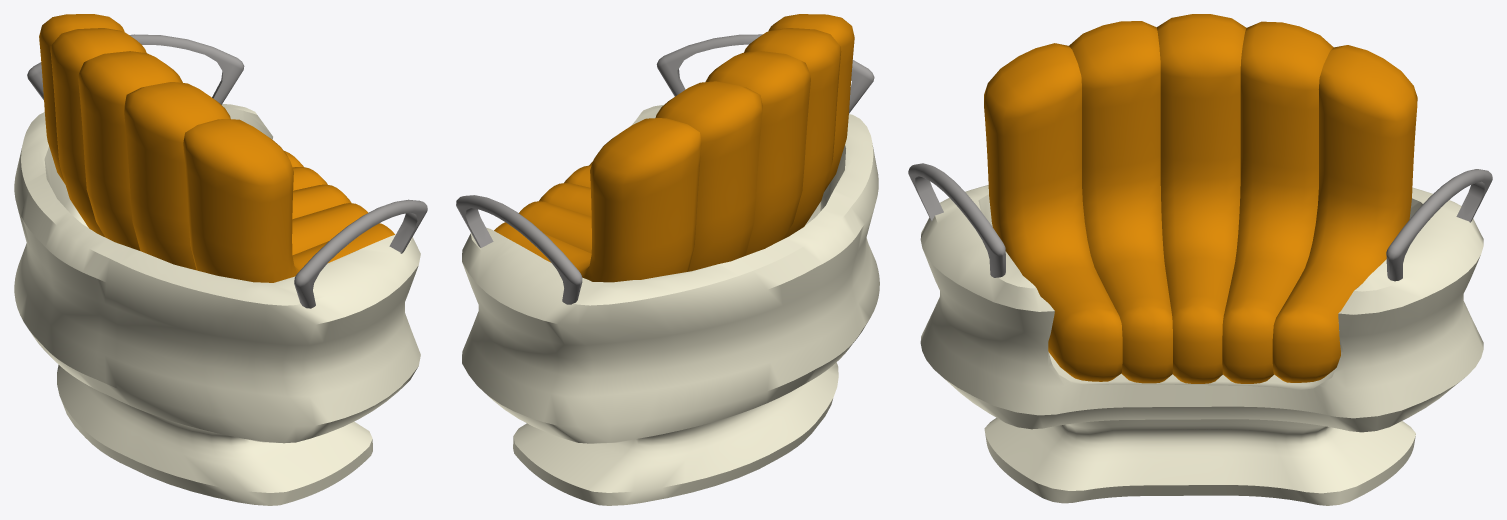
File: ArmChair.fbx
The picture shows the model from 3 angles, left to right: view 1: azimuth 30°, elevation 25°; view 2: azimuth 150°, elevation 25°; view 3: azimuth 270°, elevation 25°; orthographic projection. The views are drawn at different scales.
Visible parts, largest first — view 1: Body, Cushions, Rails; view 2: Body, Cushions, Rails; view 3: Cushions, Body, Rails.
Part boxes in pixels (box(x1,y1,x2,y2)): Body: box(14, 104, 420, 505); Cushions: box(39, 14, 394, 282); Rails: box(27, 34, 427, 308); Body: box(462, 105, 879, 505); Cushions: box(494, 14, 854, 282); Rails: box(456, 34, 874, 304); Cushions: box(984, 14, 1417, 383); Body: box(920, 185, 1483, 505); Rails: box(908, 163, 1492, 281).
Size of the model in its own units: 4.64 by 5.78 by 7.75.
